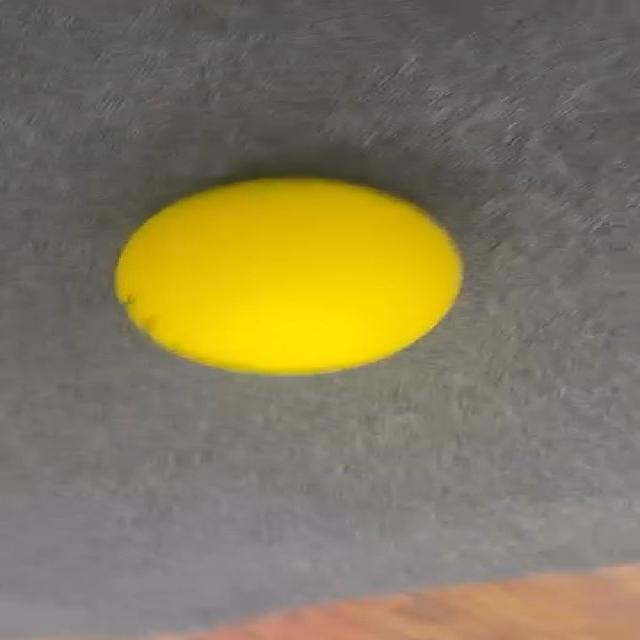Fuels: (113, 175, 470, 375)
